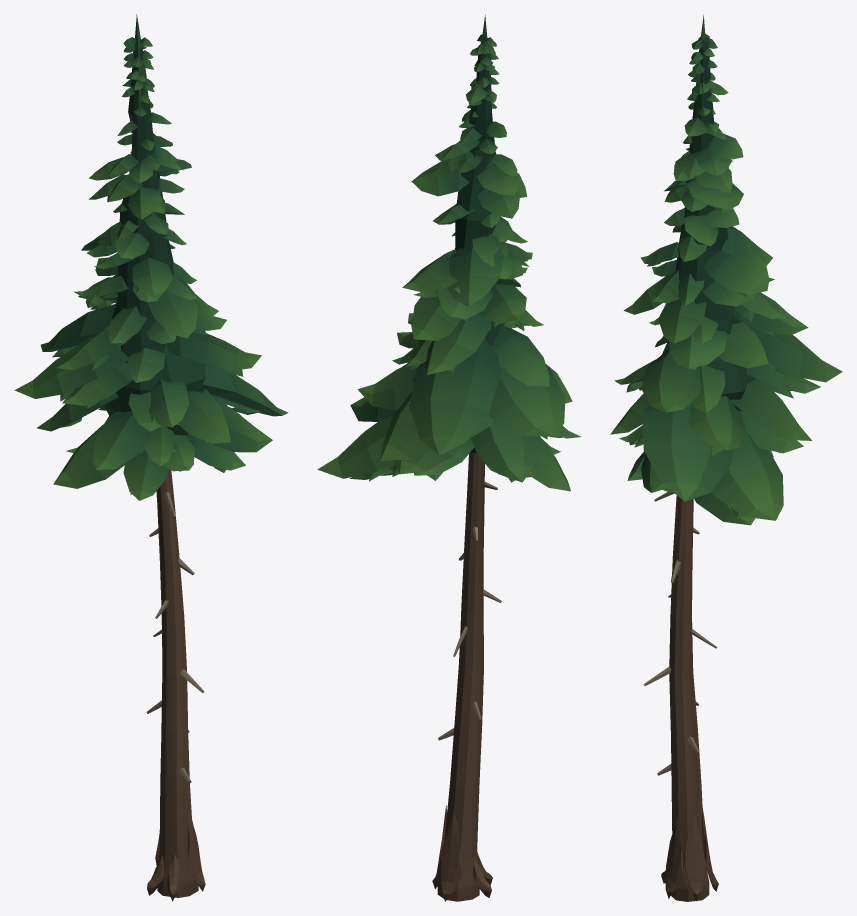
Rendered from spruce_mature_B.glb.
The picture shows the model from 3 angles, left to right: view 1: azimuth 30°, elevation 25°; view 2: azimuth 150°, elevation 25°; view 3: azimuth 270°, elevation 25°; orthographic projection. The views are drawn at different scales.
Visible parts, largest first — view 1: spruce_mature_B; view 2: spruce_mature_B; view 3: spruce_mature_B.
Boxes of the visible parts, left/top/right/bottom form: spruce_mature_B: left=14, top=14, right=288, bottom=901; spruce_mature_B: left=317, top=14, right=580, bottom=901; spruce_mature_B: left=610, top=15, right=842, bottom=901.
Bounding box in the file's own units: 5.75 × 20.3 × 4.96.
